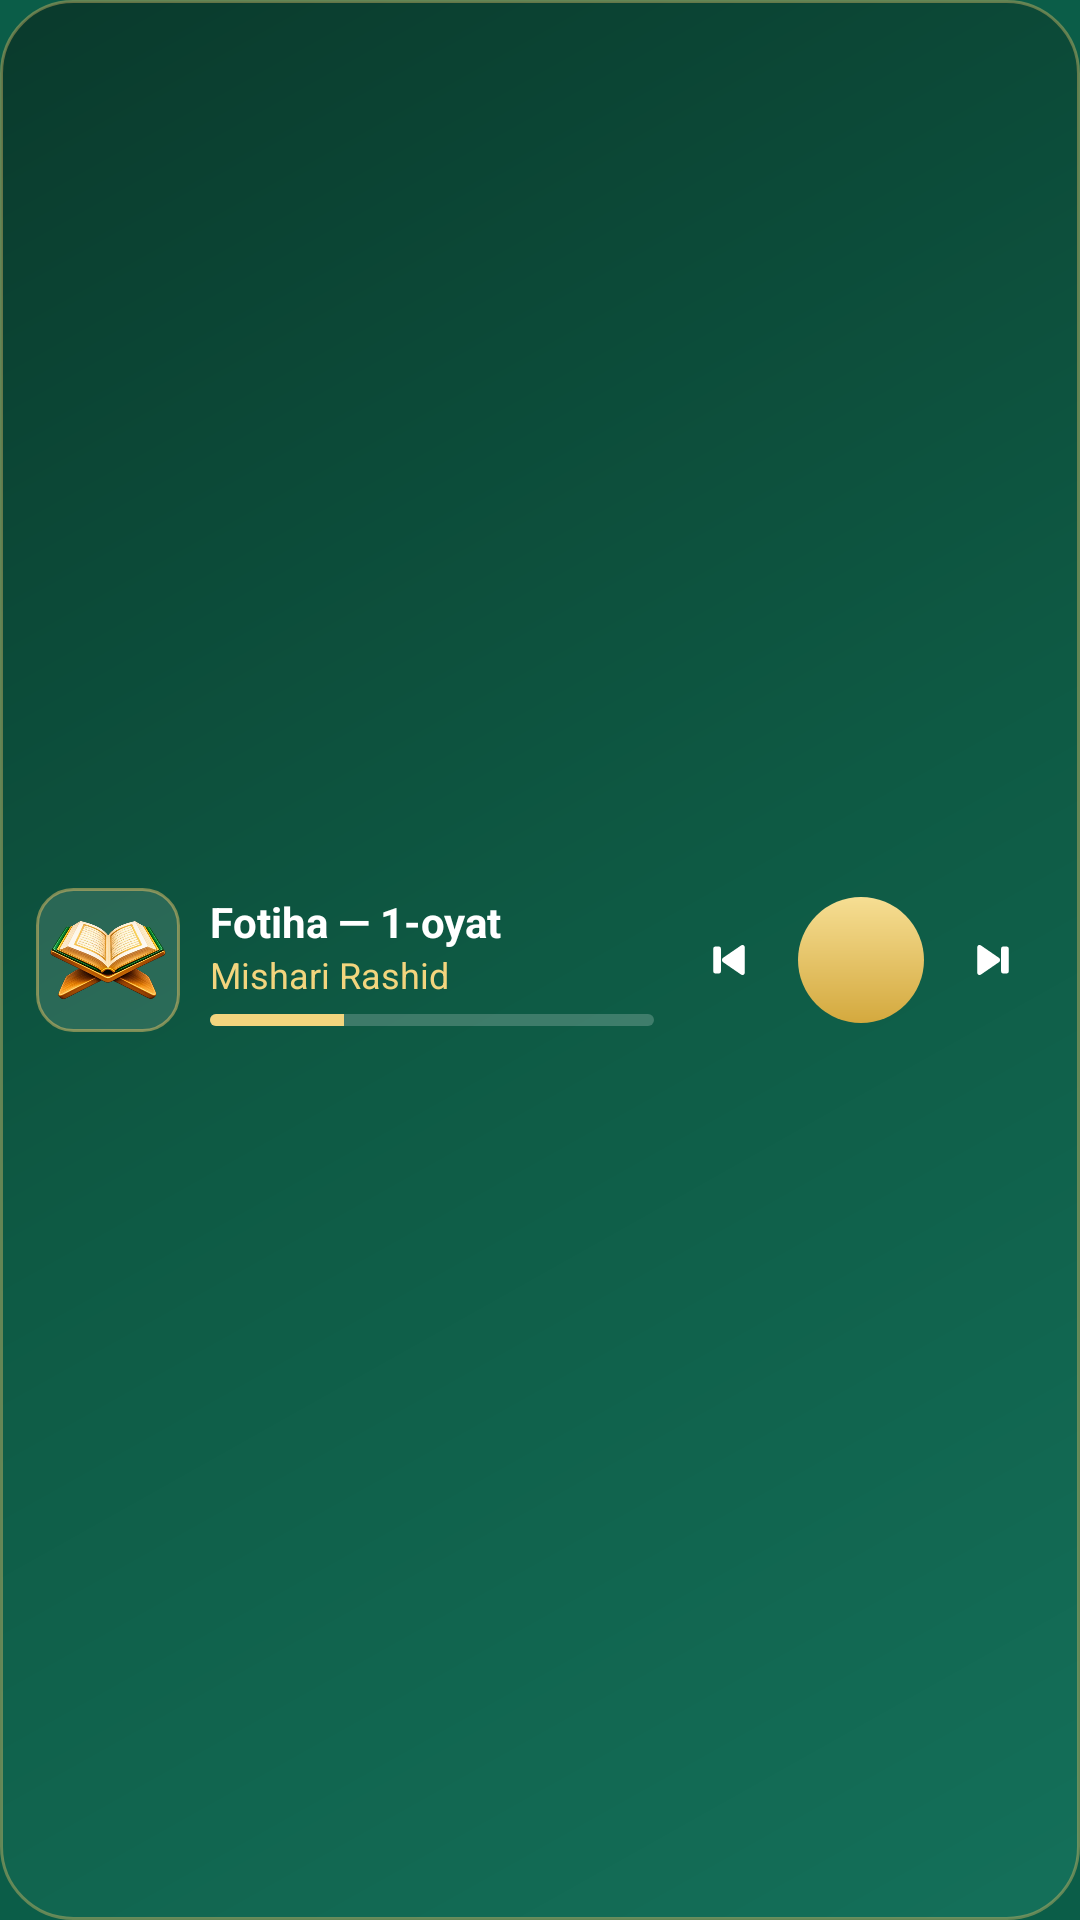

Where to tap for icons on this 1080*1920 app screen, as (x=x, y=y):
Keyingi: (x=993, y=960)
Oldingi: (x=729, y=960)
quran: (x=108, y=960)
